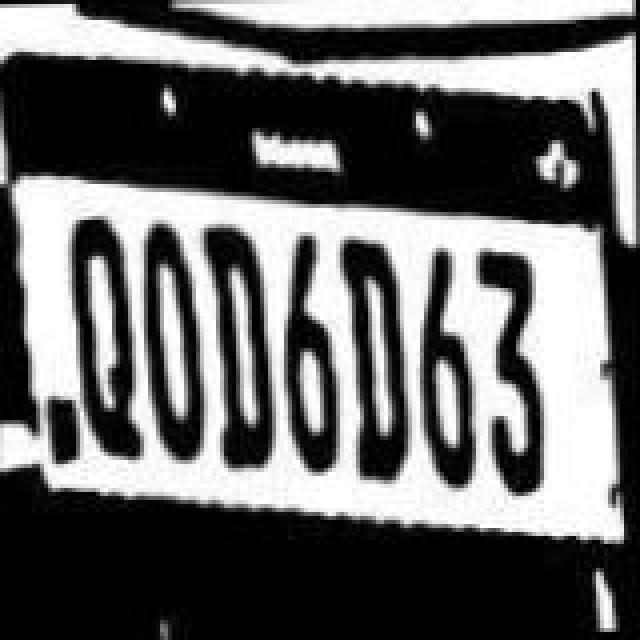3: (474, 238, 546, 502)
6: (280, 234, 340, 482), (420, 248, 480, 496)
D: (198, 218, 278, 470), (336, 236, 412, 488)
O: (140, 218, 208, 462)
Q: (68, 208, 144, 464)
